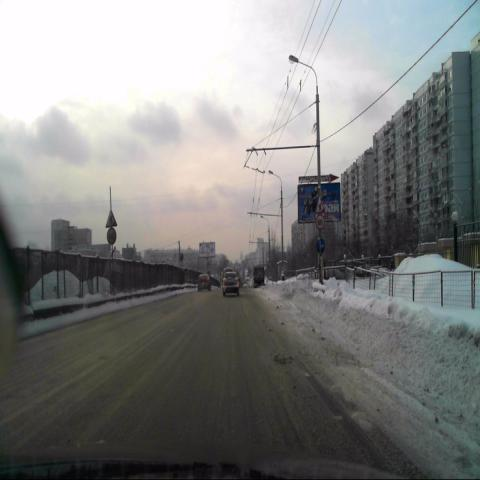1_25: (314, 196, 326, 214), (106, 209, 116, 226)
3_24: (107, 227, 117, 246), (316, 215, 324, 230)
4_1_4: (316, 238, 326, 255)
